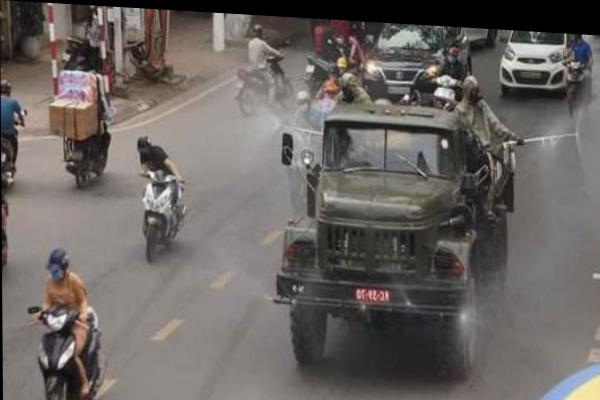License_Plate: (352, 286, 392, 305), (385, 83, 411, 100), (519, 70, 543, 82)
